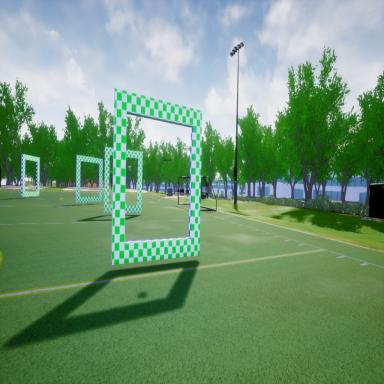gate: (112, 85, 204, 265), (74, 150, 104, 207), (21, 152, 41, 200)
